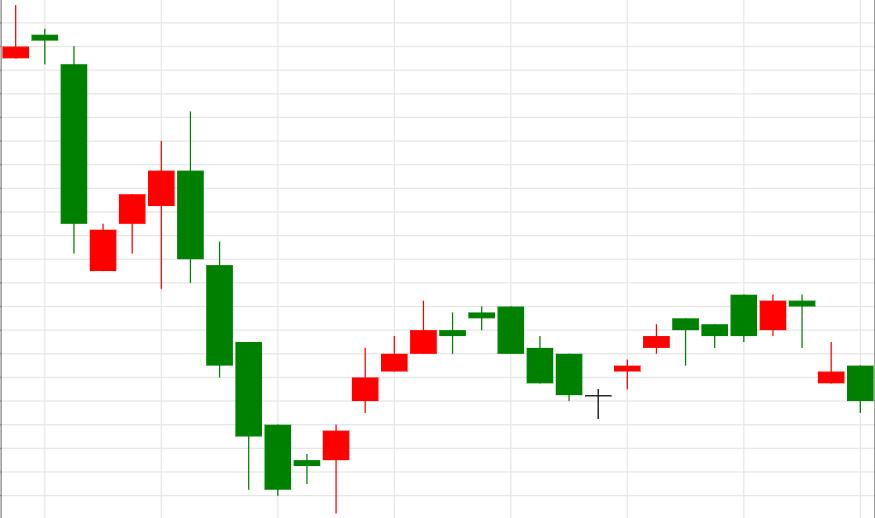three_black_crows_fall: (89, 112, 262, 492)
